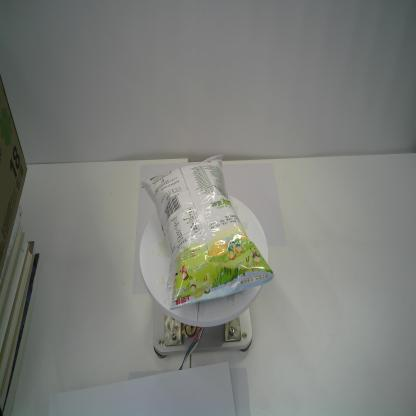Puffed Food: (140, 152, 274, 314)
